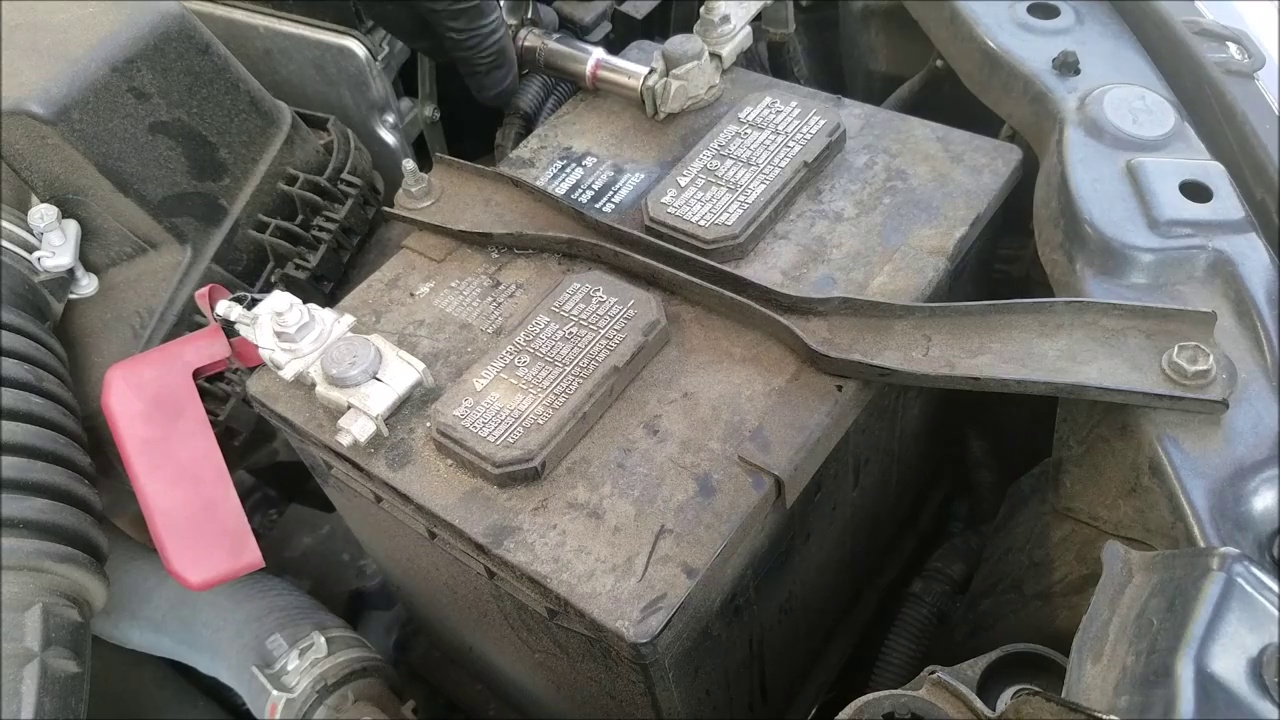battery: (227, 10, 1010, 624)
neg_connected: (635, 12, 772, 136)
pos_connected: (181, 272, 420, 472)
